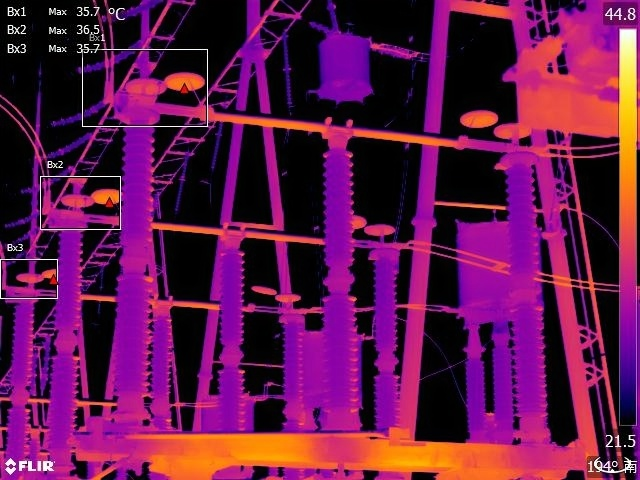capacitor: (449, 211, 560, 334)
insulator: (78, 37, 146, 77), (54, 95, 119, 125), (101, 1, 186, 20), (23, 168, 87, 193), (40, 133, 90, 162), (281, 28, 293, 111)
post insulator: (498, 149, 555, 433), (316, 137, 362, 417), (112, 110, 153, 421), (37, 221, 87, 461), (213, 238, 249, 428), (1, 296, 38, 478), (369, 255, 403, 430), (278, 320, 307, 414), (150, 311, 173, 428), (459, 341, 488, 432), (490, 342, 518, 428)
switch: (116, 61, 538, 159), (46, 187, 402, 254), (23, 267, 298, 317)
wave trap: (313, 26, 376, 104)
